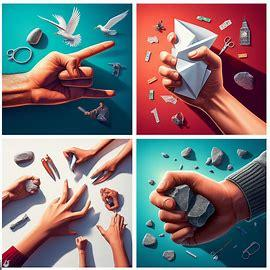Stone: (145, 164, 250, 254)
